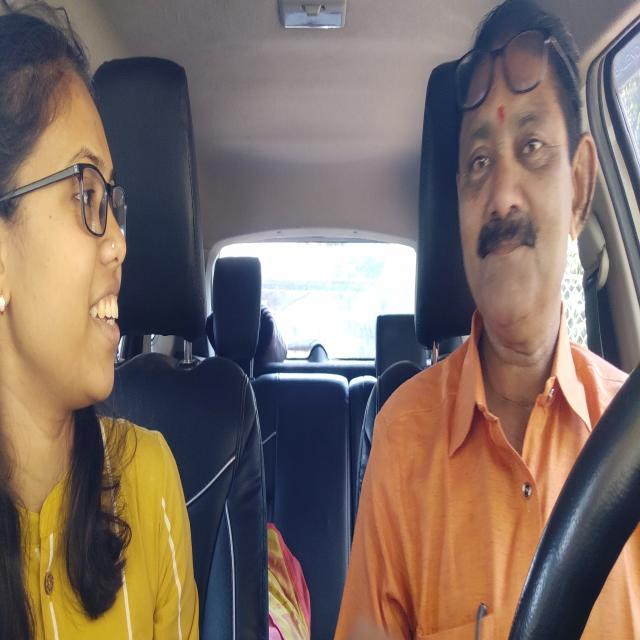person: (0, 7, 135, 440), (444, 5, 599, 352)
